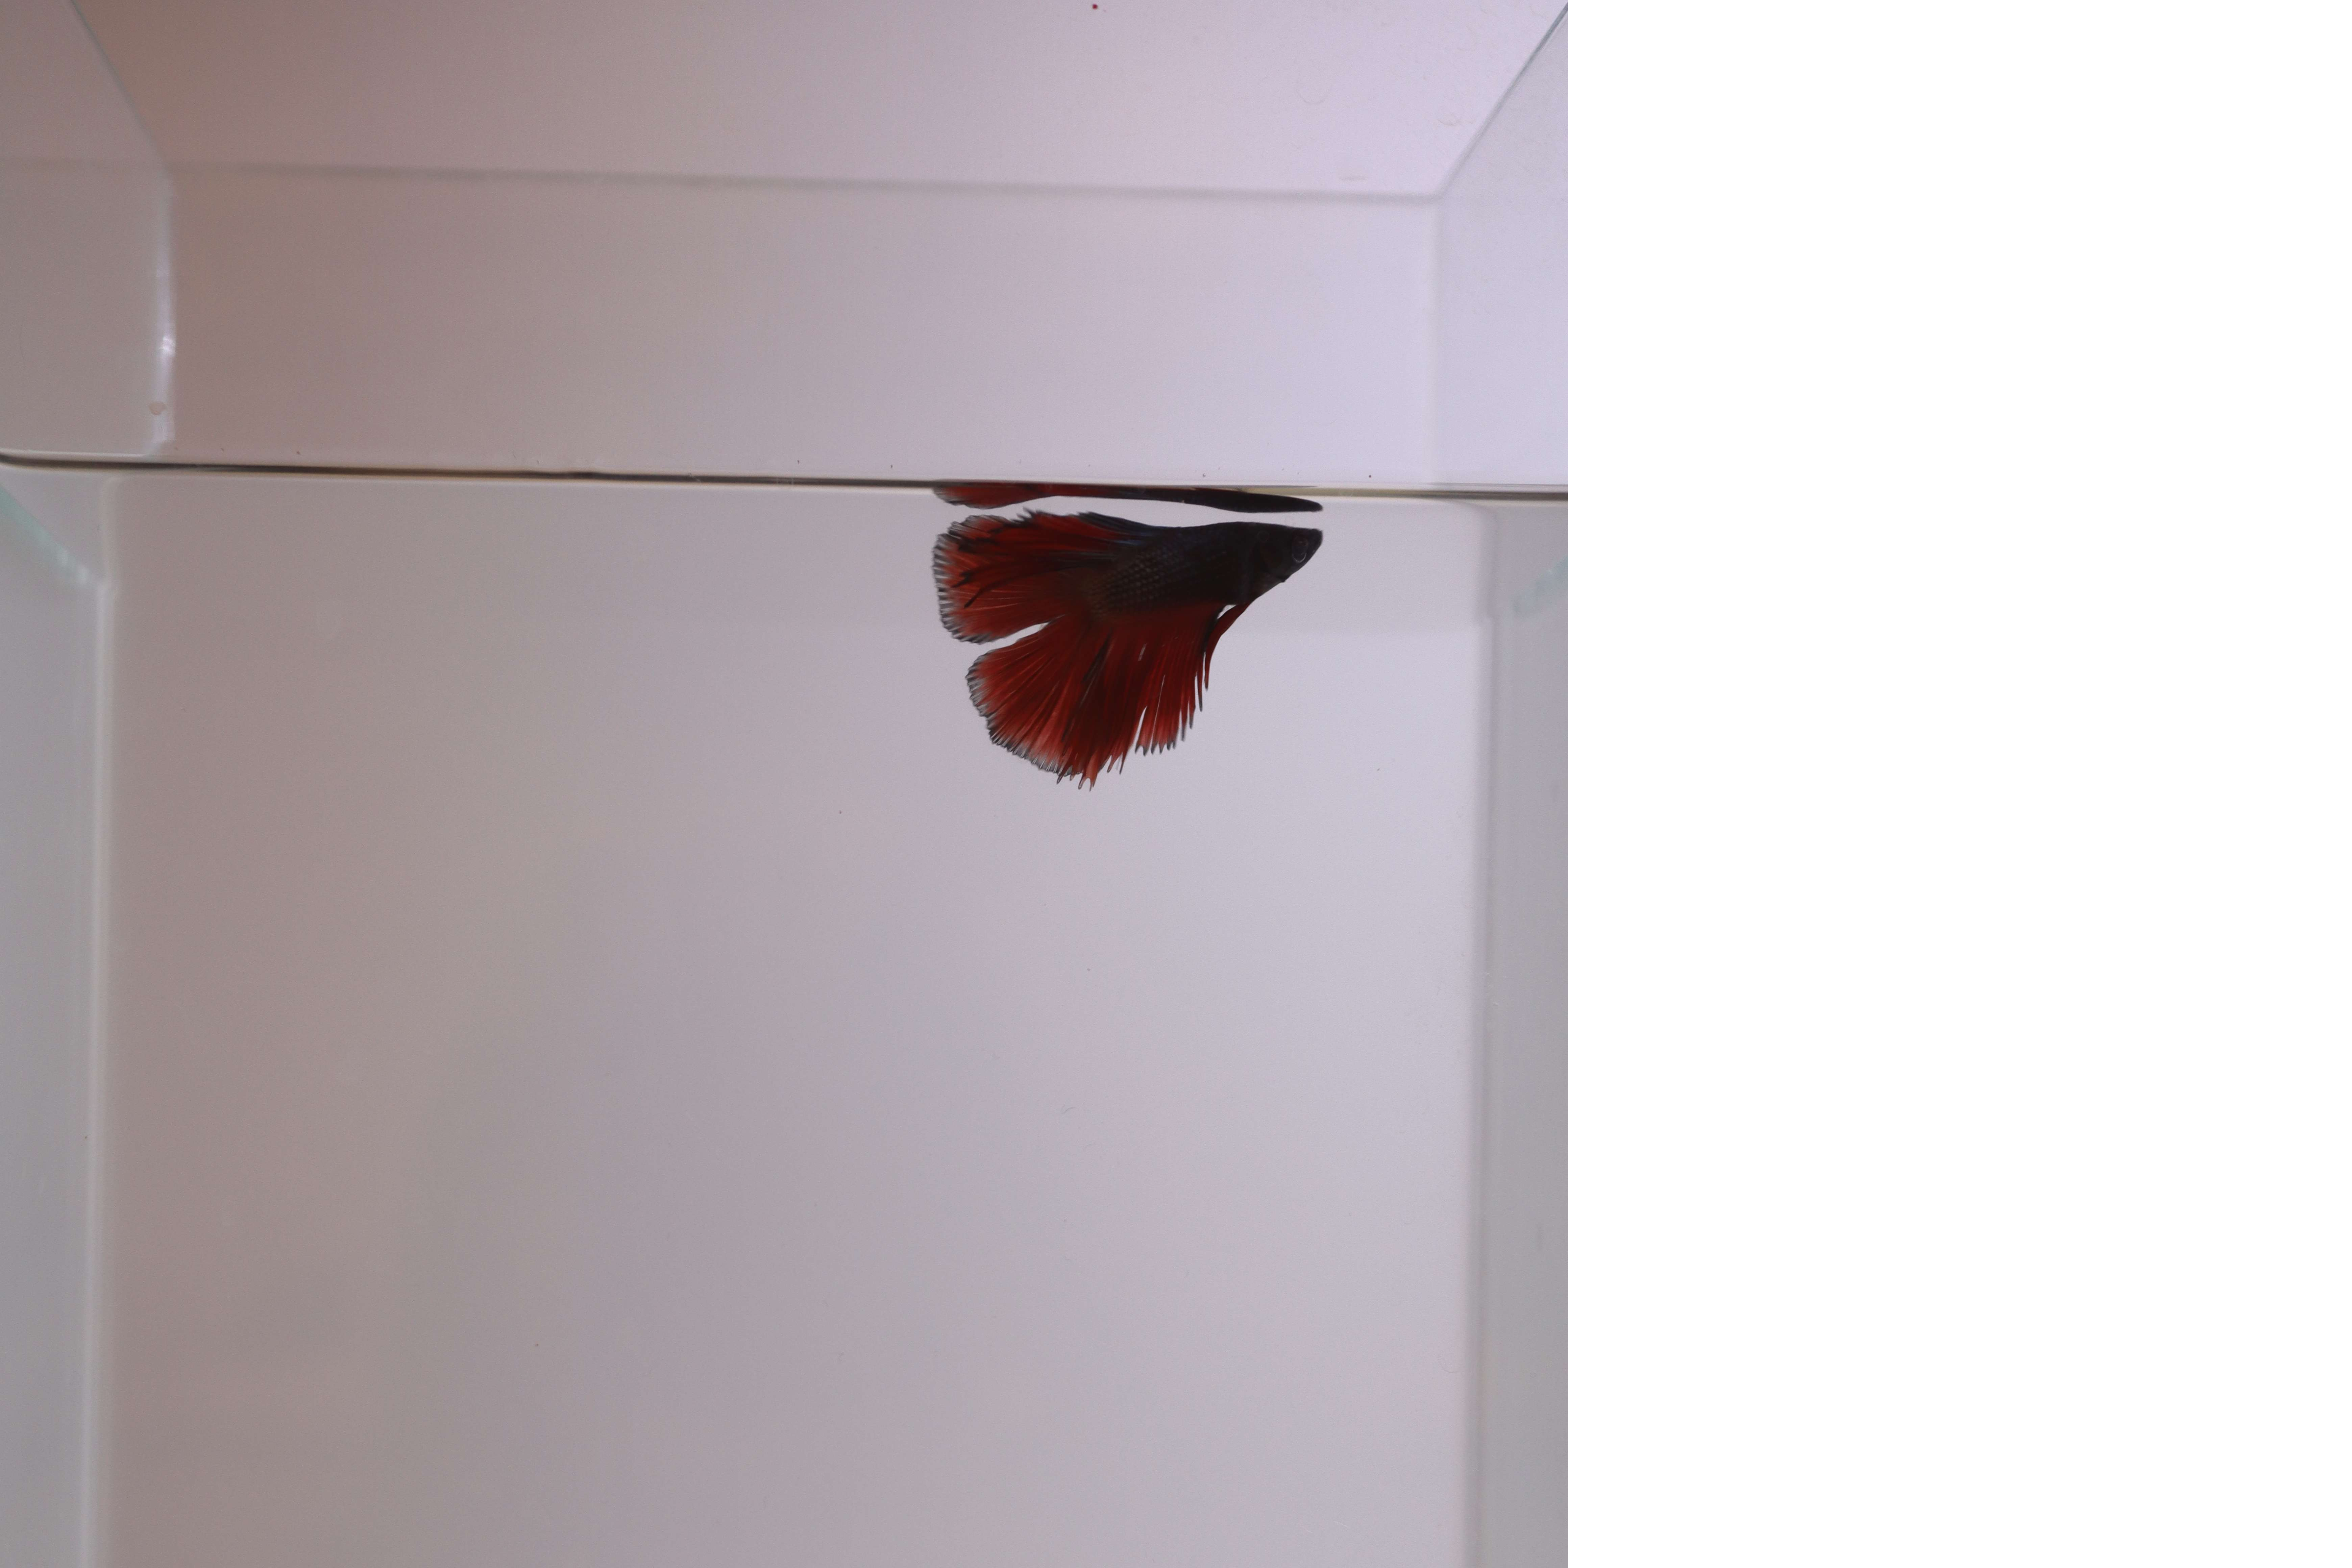fish: (906, 506, 1332, 789)
